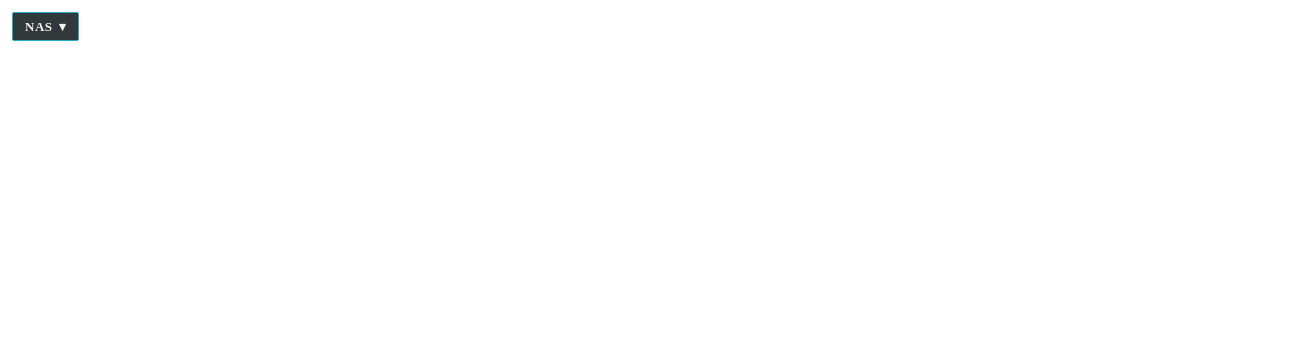
ConnectionSwitcher › lists backends that share a database under their cluster
Click the button "NAS ▾" at coordinates (46, 27), box [12,12,79,41]
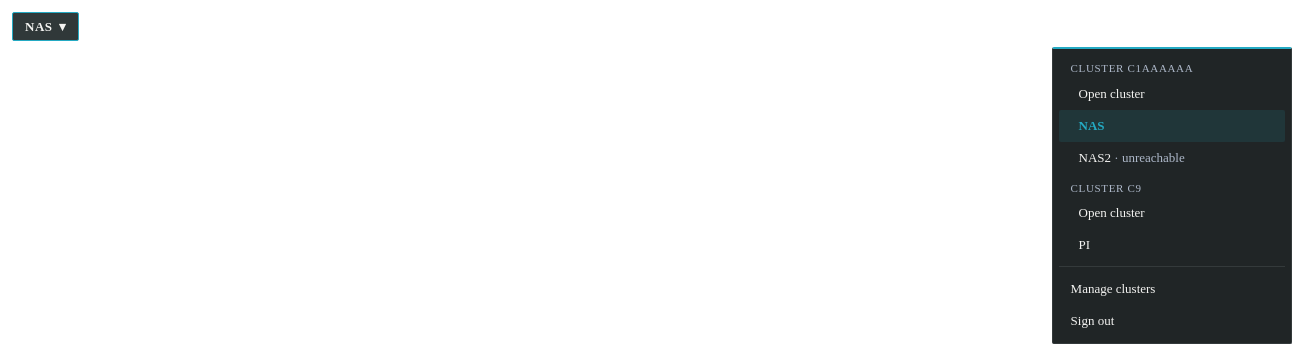
Now the list item "Cluster c1aaaaaa" is shown, box [1071,62,1193,74]
